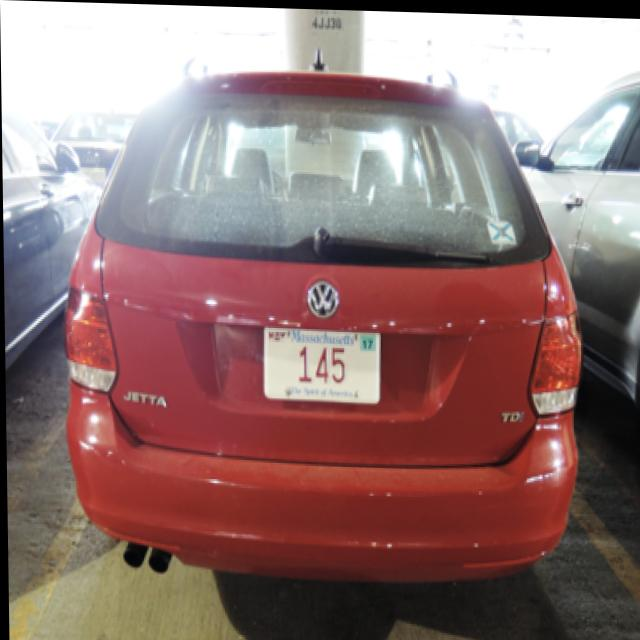licence: (263, 322, 377, 401)
